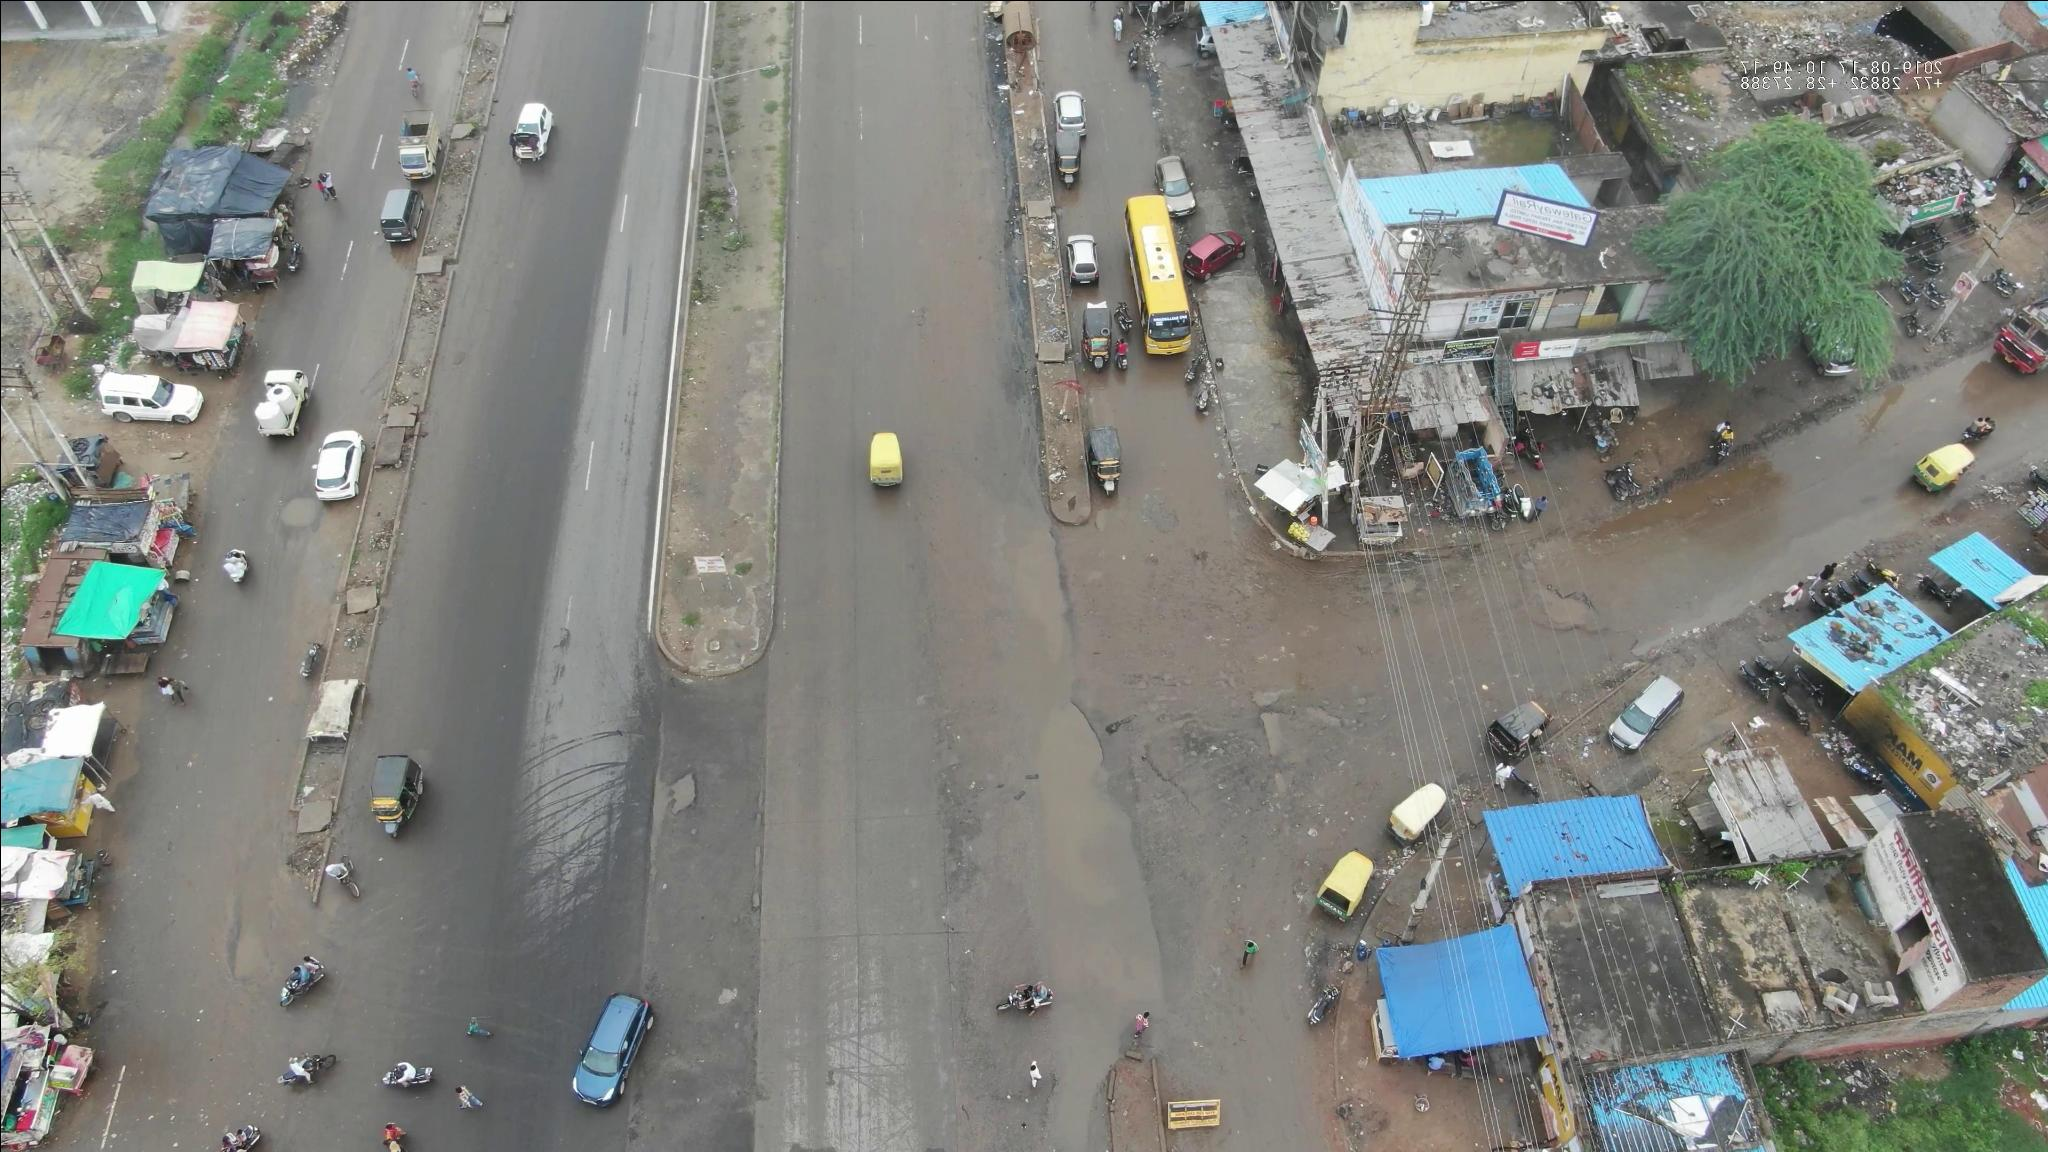Potholes: (218, 872, 286, 999), (1525, 570, 1601, 646), (269, 480, 326, 544)
